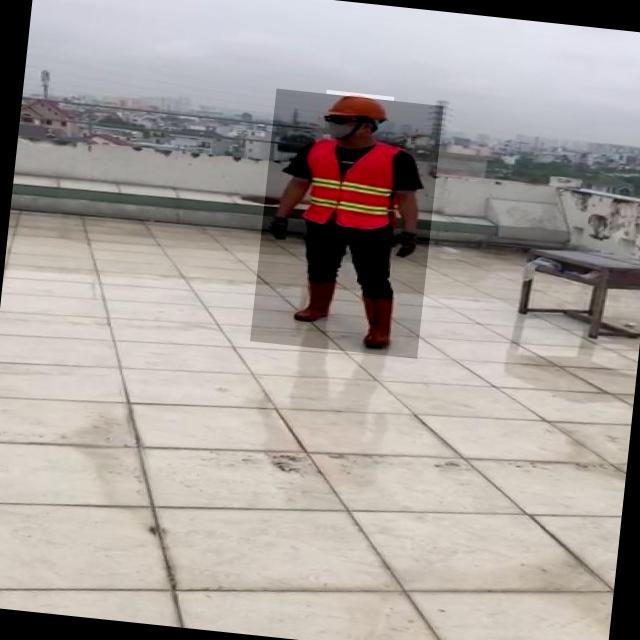Gloves: (388, 231, 423, 260), (268, 213, 293, 241)
Helmet: (324, 90, 394, 123)
Human: (249, 89, 443, 359)
Safety Boot: (353, 294, 396, 351), (295, 278, 335, 323)
Safety Vest: (299, 137, 401, 230)
